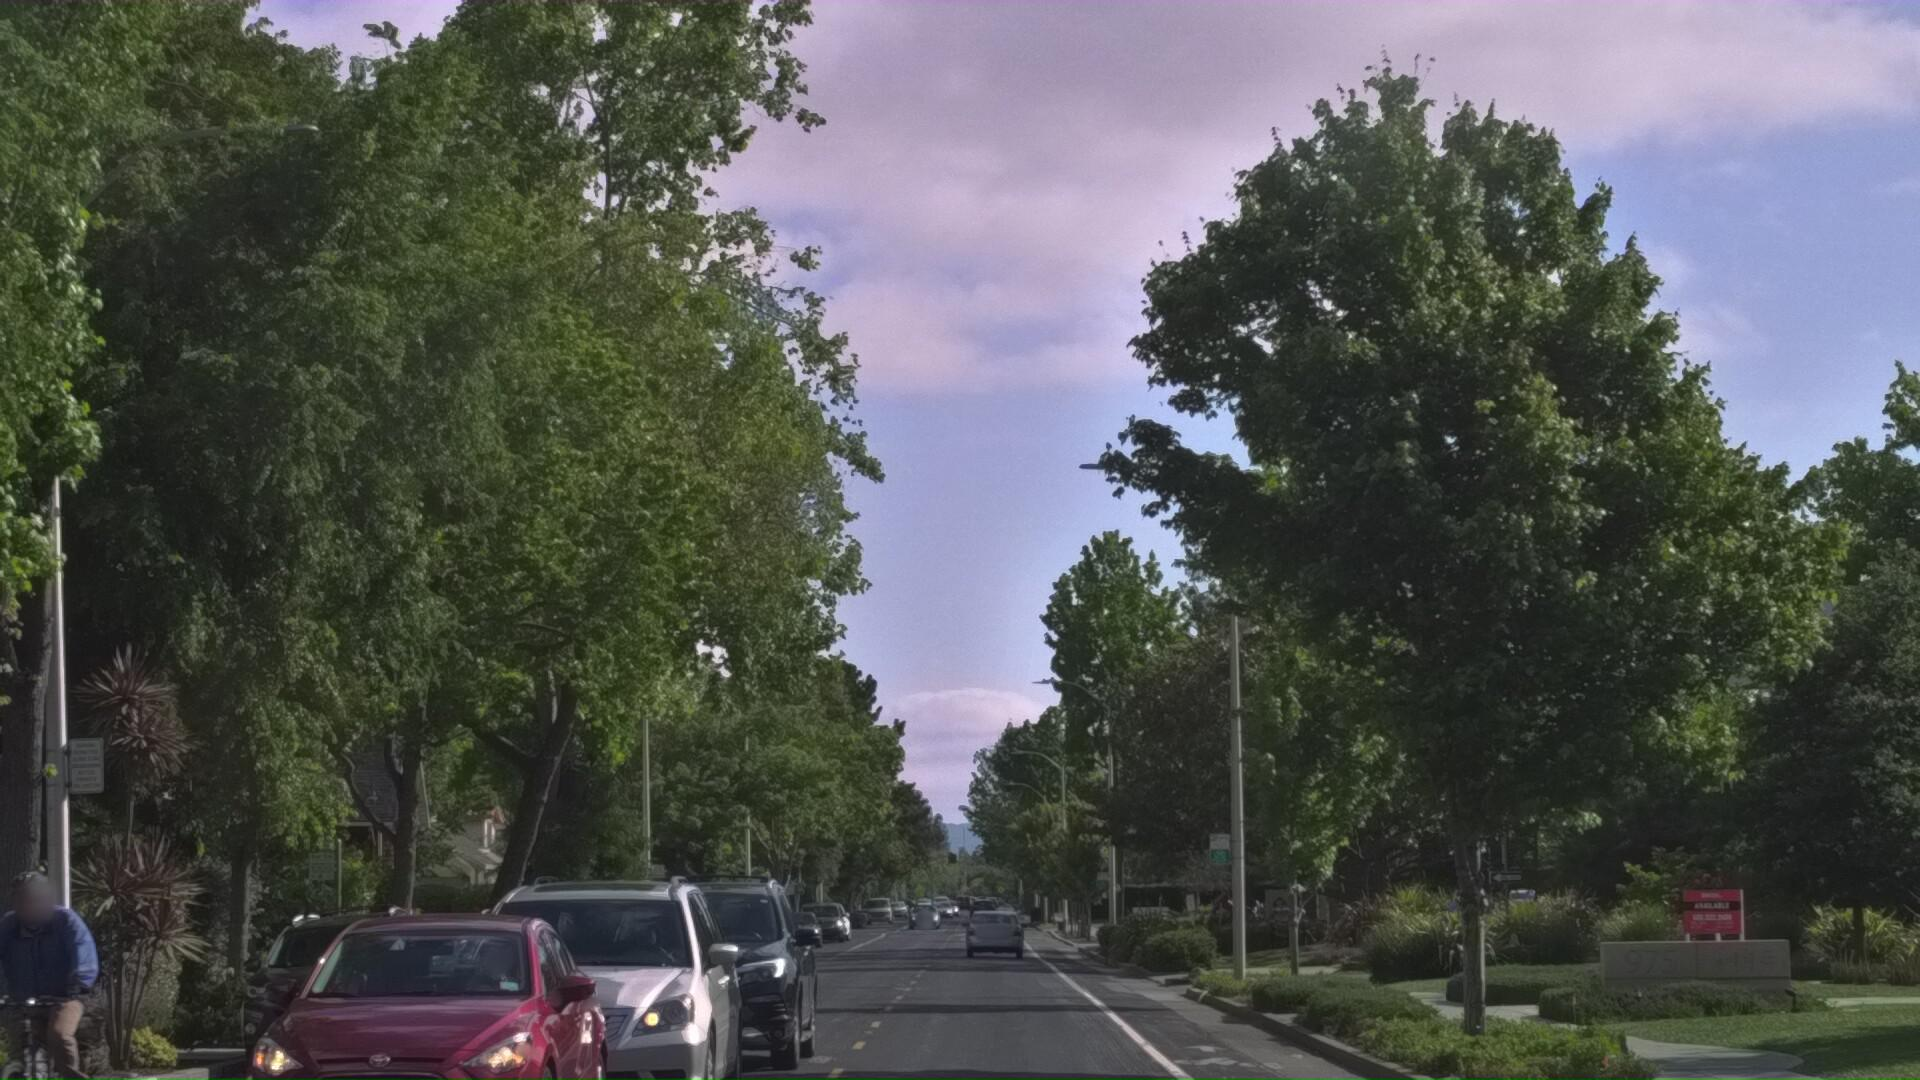bicycle: (0, 936, 140, 1080)
car: (433, 938, 765, 1080), (204, 969, 622, 1080), (592, 949, 829, 1080), (237, 986, 471, 1080)
